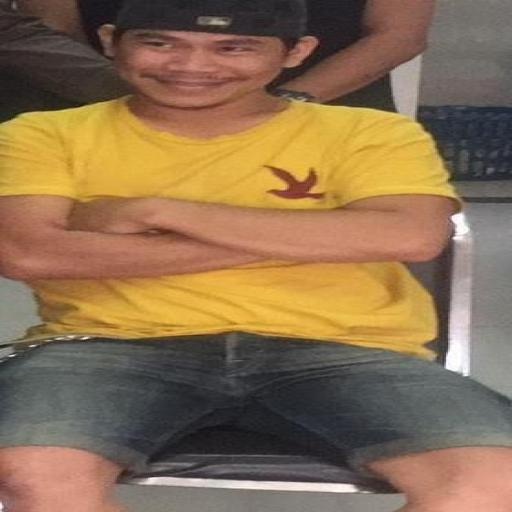person: (0, 0, 511, 511), (273, 0, 435, 110), (0, 3, 129, 120)
